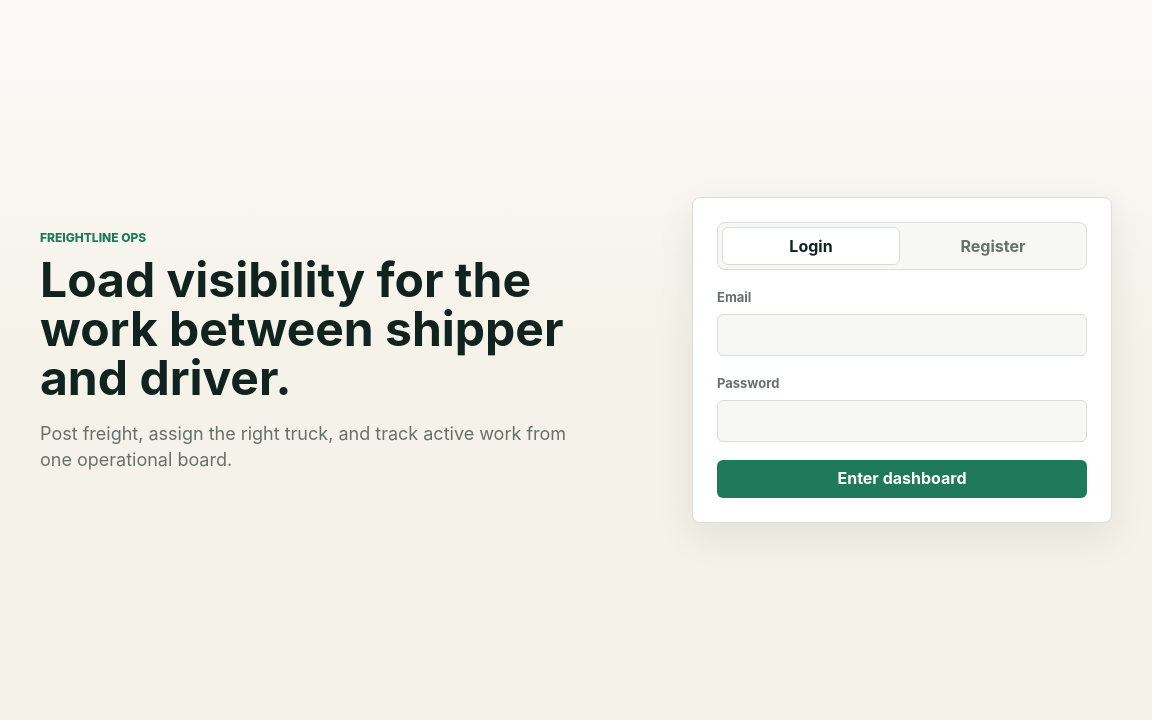
Test: AuthScreen › switches to register mode and shows account fields
Click the button "Register".
click(993, 246)  # box x1=904 y1=227 x2=1082 y2=265
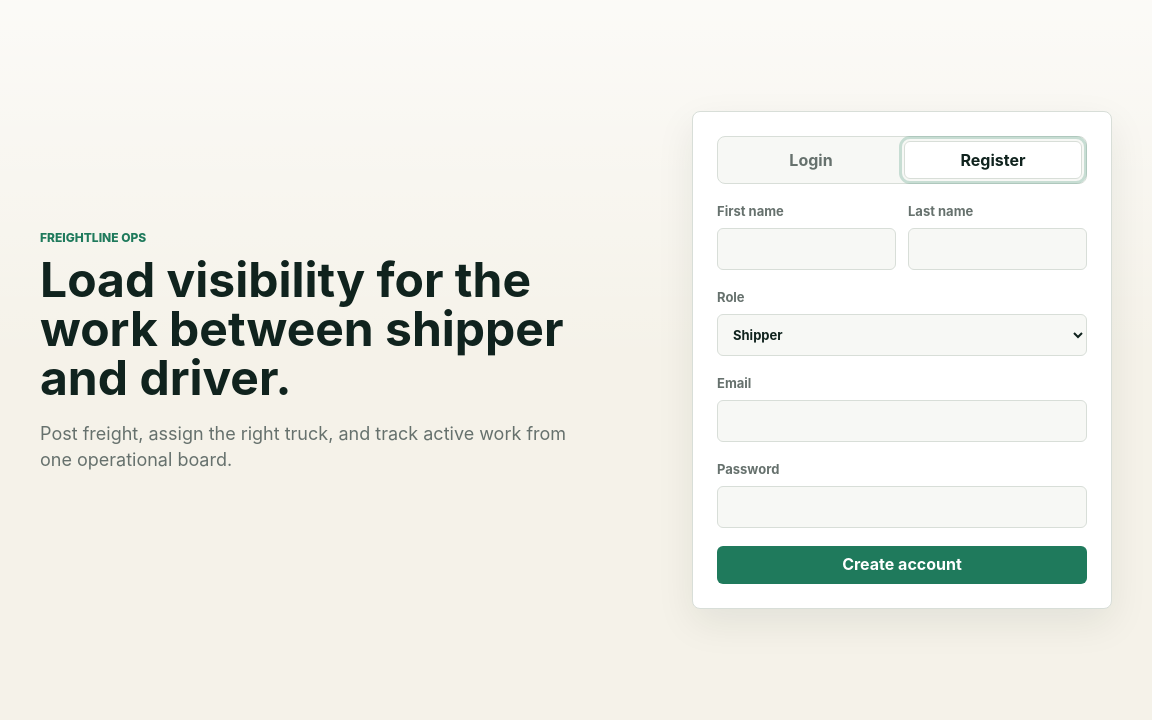
Check: the field labelled "First name" is shown, box x1=717 y1=228 x2=896 y2=270
Check: the field labelled "Last name" is shown, box x1=908 y1=228 x2=1087 y2=270
Check: the dropdown labelled "Role" is shown, box x1=717 y1=314 x2=1087 y2=356
